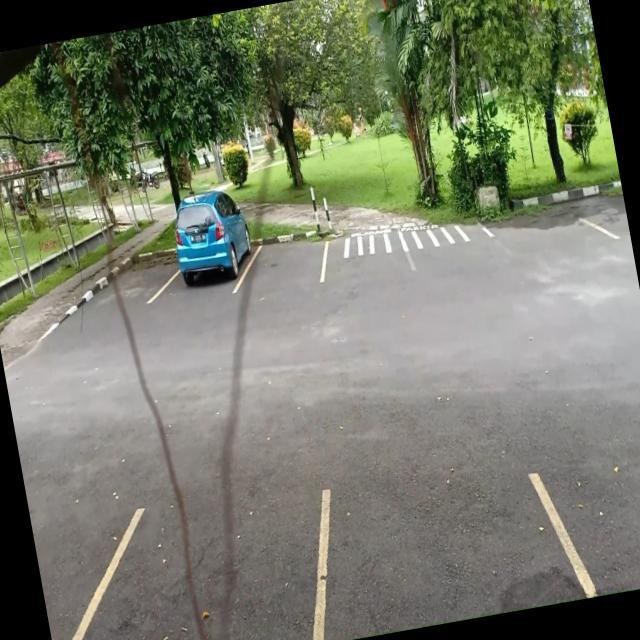empty: (242, 214, 334, 292)
occupied: (165, 220, 258, 294)
